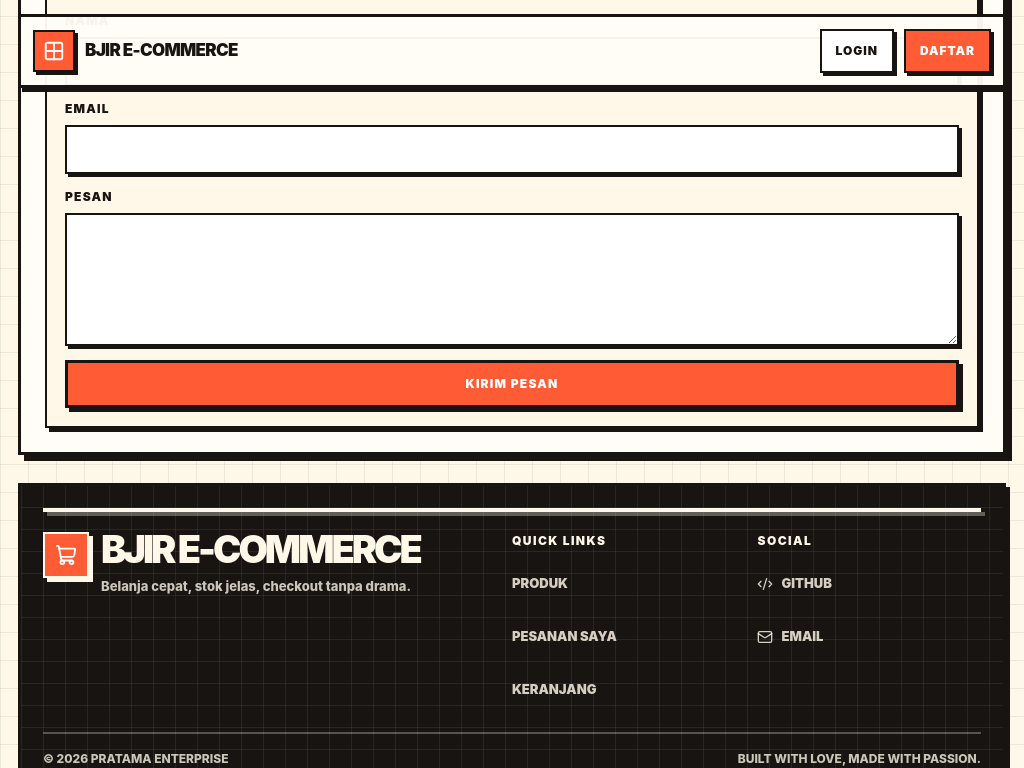
Scenario: LandingPage › validates required contact form fields inline
(page scrolled)
What coordinates should you click on to do the following:
click the button "Kirim Pesan"
I would click on:
 (512, 384)
Its box is 65,360 -> 959,408.
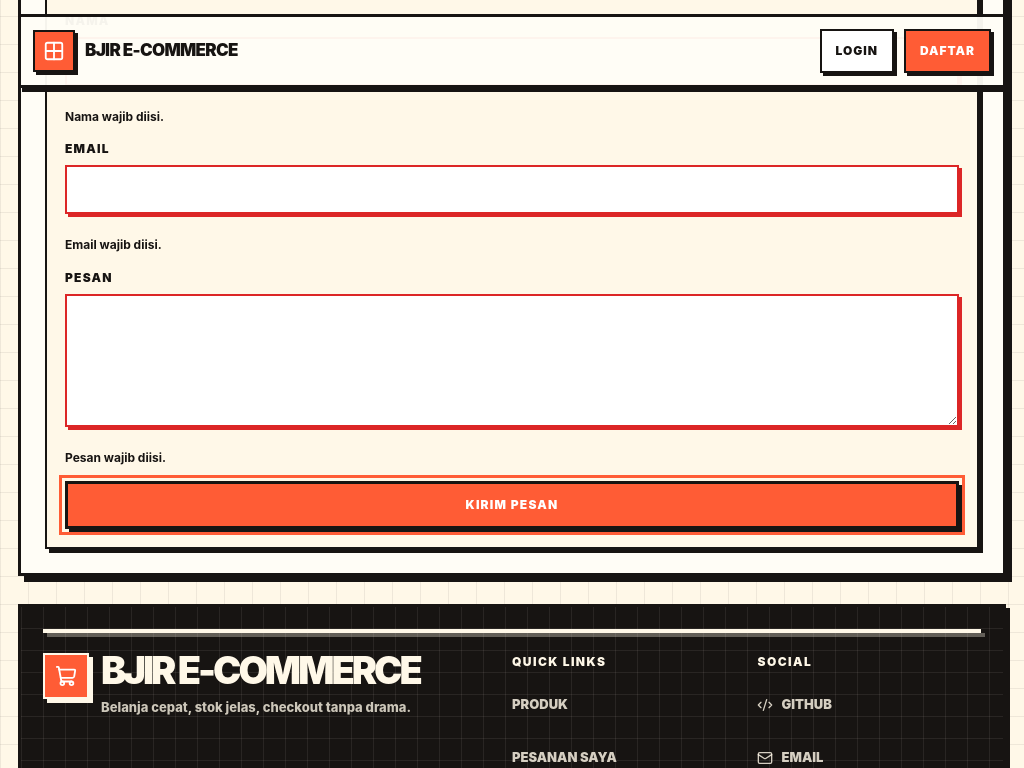
Expected: the text "Nama wajib diisi." is shown, 65,109 -> 164,124
Expected: the text "Email wajib diisi." is shown, 65,237 -> 162,252
Expected: the text "Pesan wajib diisi." is shown, 65,450 -> 166,464
